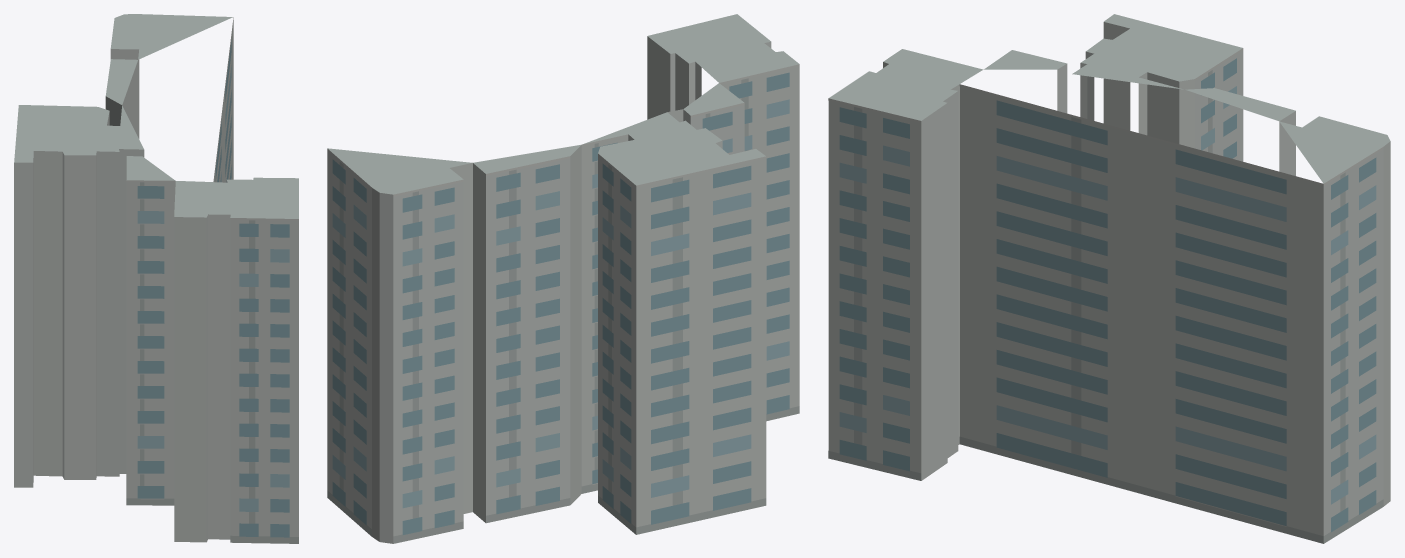
File: survey-upis-33040745.glb
3 views of the same model, side by side, from view 1: azimuth 30°, elevation 25°; view 2: azimuth 150°, elevation 25°; view 3: azimuth 270°, elevation 25° (orthographic). The views are drawn at different scales.
Parts seen in each view (by area): view 1: survey-upis-33040745.tmp; view 2: survey-upis-33040745.tmp; view 3: survey-upis-33040745.tmp.
Part boxes in pixels (x1=…): survey-upis-33040745.tmp: x1=14, y1=14, x2=298, y2=543; survey-upis-33040745.tmp: x1=327, y1=14, x2=799, y2=543; survey-upis-33040745.tmp: x1=828, y1=14, x2=1390, y2=543.
Size of the model in its own units: 40.09 by 39.65 by 56.08.
